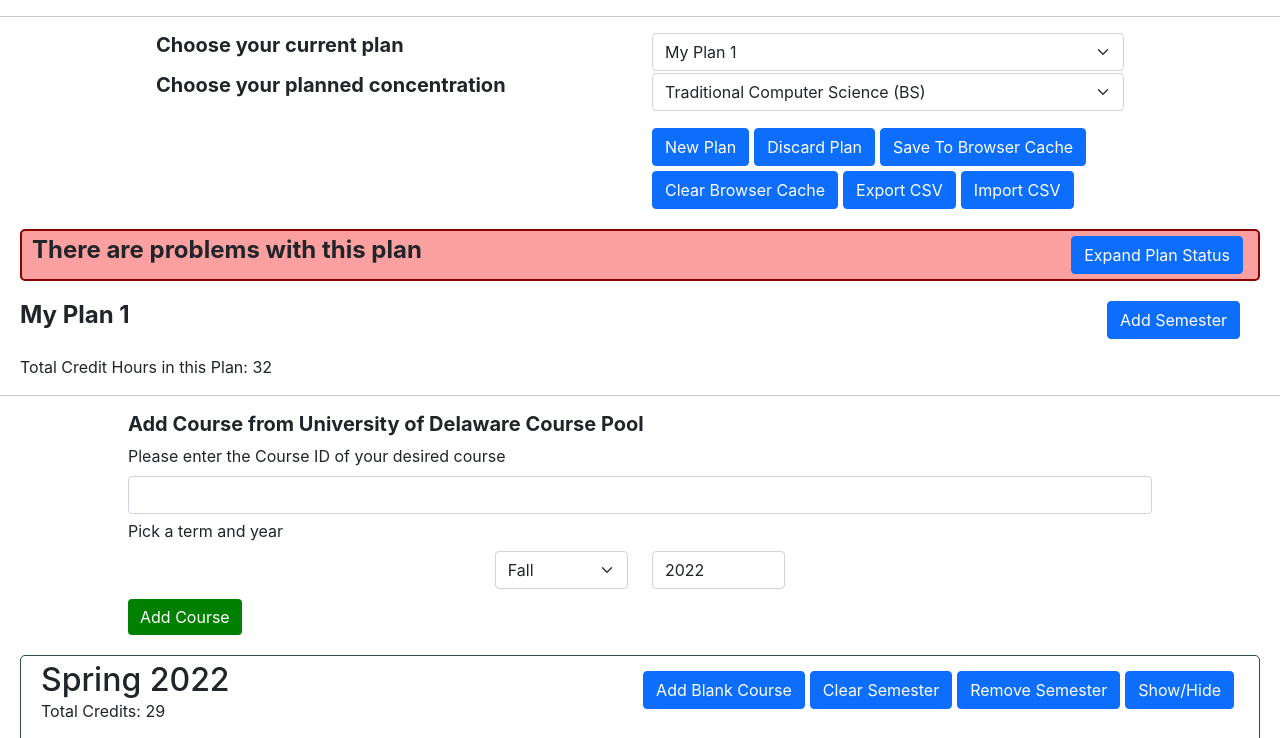
Planner Tests › Expand requirements not met by plan
Click the button with test id "expand-problems": point(1157, 255) [1071,236,1243,274]
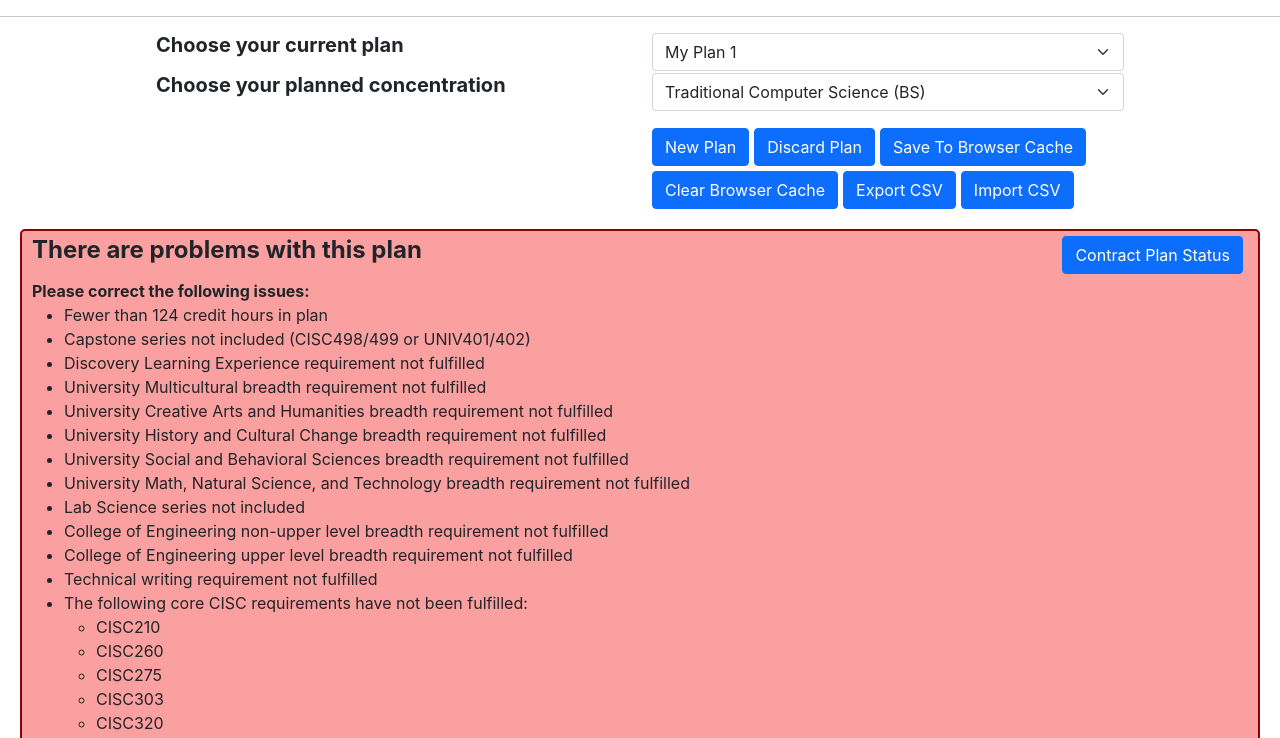
Expected: the text "Please correct the following issues:" is shown, [32,281,310,301]
